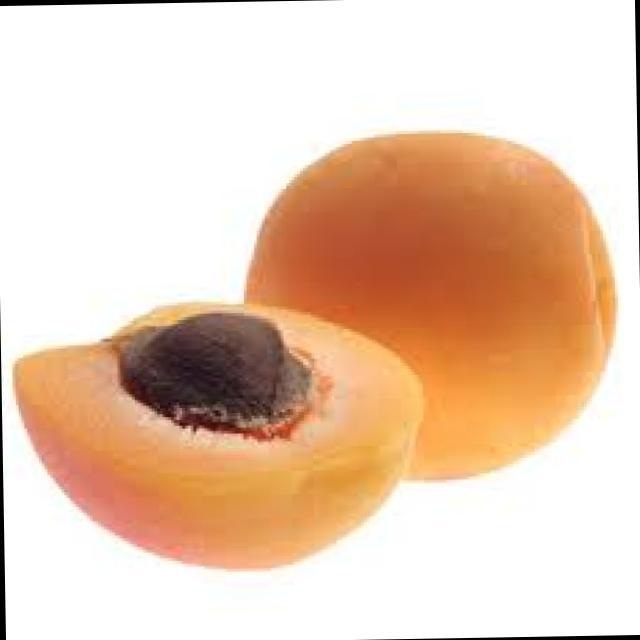Apricot: (11, 264, 457, 598)
